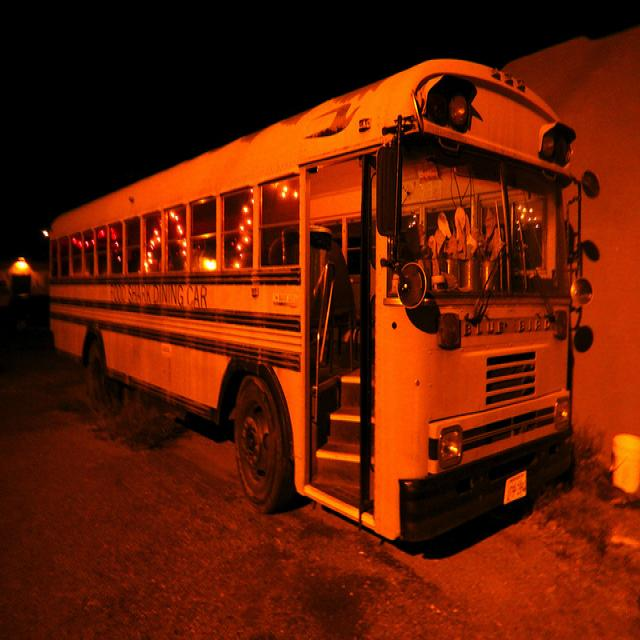Bus: (22, 96, 596, 566)
